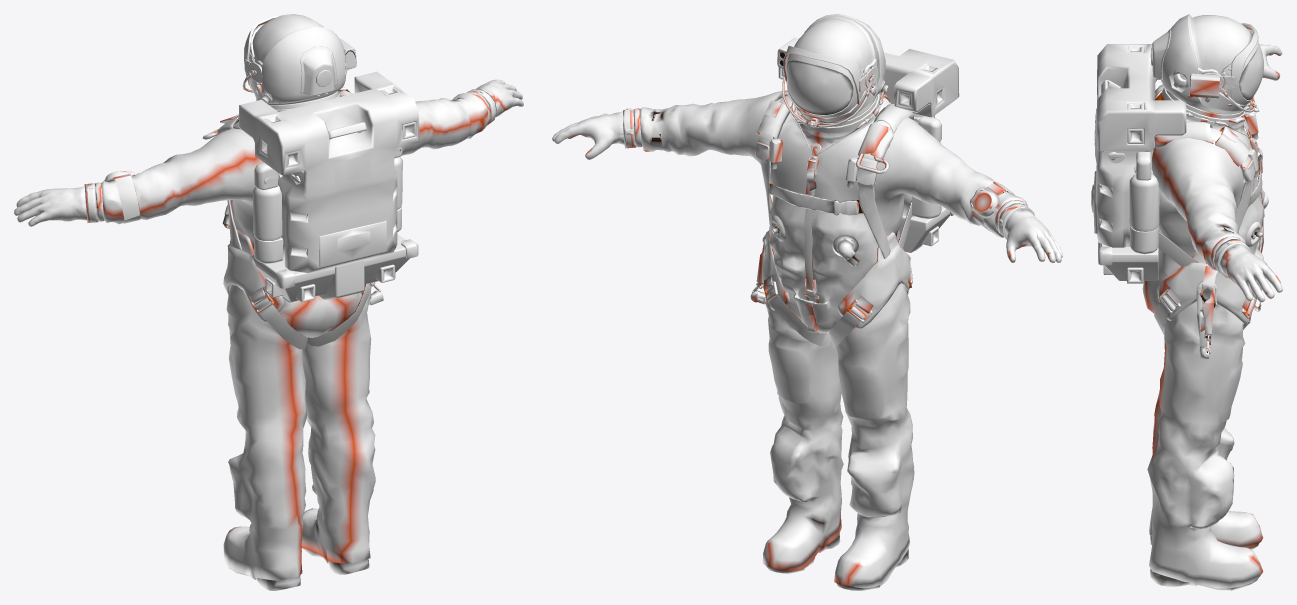
The picture shows the model from 3 angles, left to right: view 1: azimuth 30°, elevation 25°; view 2: azimuth 150°, elevation 25°; view 3: azimuth 270°, elevation 25°; orthographic projection.
Parts seen in each view (by area): view 1: macacao_oPP, jato_mochila_oPP, capacete2_SeamsColor, presilhas_SeamsColor, mao_esquerda_SeamsColor, astronauta_inteiro_SeamsColor, relogio_SeamsColor; view 2: macacao_oPP, presilhas_SeamsColor, capacete2_SeamsColor, jato_mochila_oPP, mao_esquerda_SeamsColor, astronauta_inteiro_SeamsColor, relogio_SeamsColor, detalhes_macacao_SeamsColor; view 3: macacao_oPP, jato_mochila_oPP, capacete2_SeamsColor, presilhas_SeamsColor, astronauta_inteiro_SeamsColor, mao_esquerda_SeamsColor, detalhes_macacao_SeamsColor.
Part boxes in pixels (x1,y1,x2,y2): macacao_oPP: (101,93,488,590); jato_mochila_oPP: (239,71,419,302); capacete2_SeamsColor: (242,14,356,111); presilhas_SeamsColor: (202,87,383,349); mao_esquerda_SeamsColor: (14,182,104,226); astronauta_inteiro_SeamsColor: (466,79,523,125); relogio_SeamsColor: (104,170,140,223); macacao_oPP: (640,90,1027,590); presilhas_SeamsColor: (750,90,913,347); capacete2_SeamsColor: (777,14,889,175); jato_mochila_oPP: (778,49,959,252); mao_esquerda_SeamsColor: (995,200,1062,262); astronauta_inteiro_SeamsColor: (552,108,642,159); relogio_SeamsColor: (969,181,1014,231); detalhes_macacao_SeamsColor: (771,215,859,266); macacao_oPP: (1142,93,1265,590); jato_mochila_oPP: (1091,44,1186,283); capacete2_SeamsColor: (1150,14,1263,155); presilhas_SeamsColor: (1154,84,1263,358); astronauta_inteiro_SeamsColor: (1210,236,1282,302); mao_esquerda_SeamsColor: (1259,44,1282,80); detalhes_macacao_SeamsColor: (1245,195,1268,247).
Size of the model in its own units: 1.94 by 2 by 0.638.
